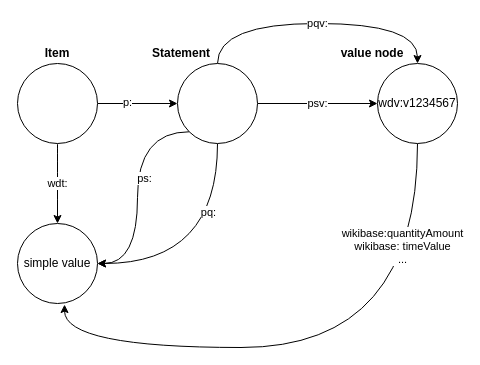
This 480x365 diagram has some shape labels left out. The shapes that lost their labels are listed below. From the top down, each one's centre as x and y in pixels, then its label:
the point at 57,103: wd:Q1234
the point at 217,103: wds:12345678
